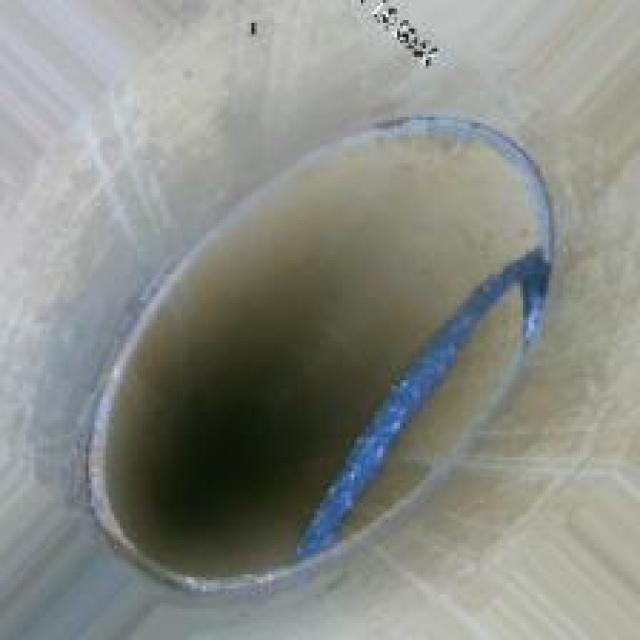joint: (63, 106, 568, 597)
